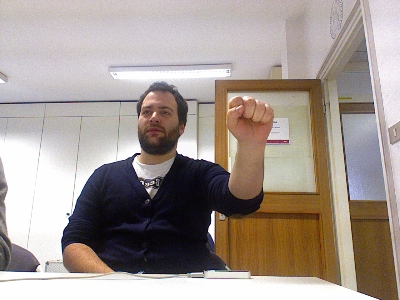石头: (225, 94, 274, 143)
